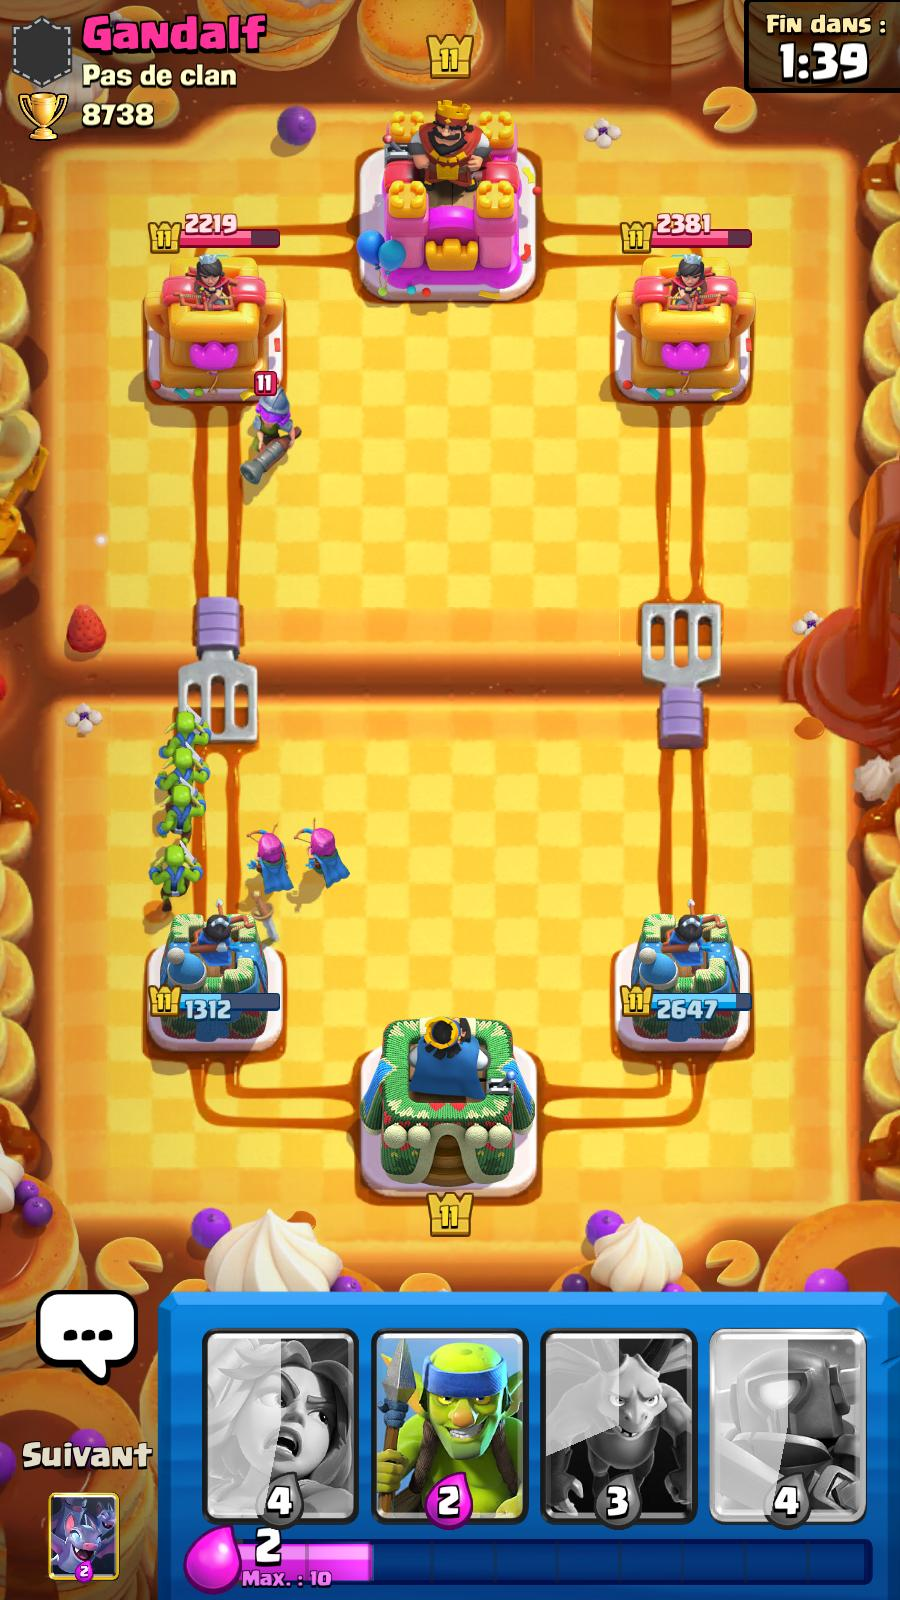archere: (243, 812, 305, 912), (295, 801, 343, 898)
gobelin: (157, 701, 224, 778), (138, 842, 208, 905), (146, 749, 214, 799), (152, 787, 214, 835)
mousquetaire: (224, 369, 300, 490)
